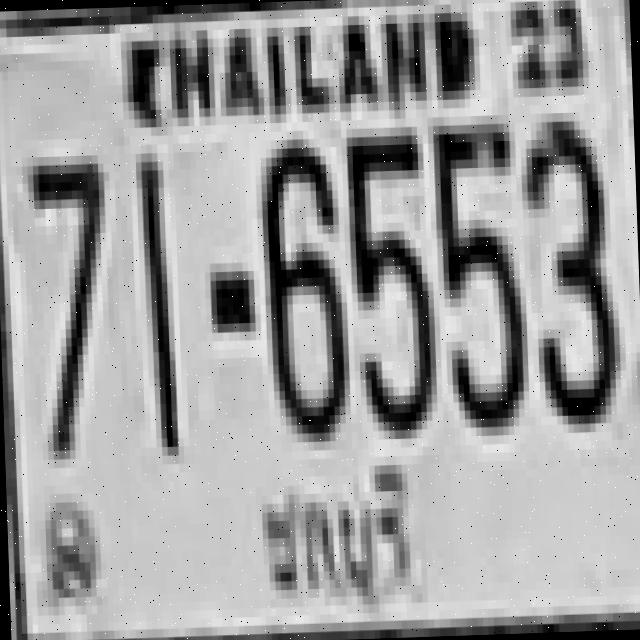1: (136, 152, 178, 456)
3: (518, 111, 616, 416)
5: (427, 114, 525, 428), (340, 126, 432, 431)
6: (254, 138, 346, 434)
7: (27, 155, 108, 451), (26, 151, 106, 395)
Chonburi: (248, 468, 422, 622)
